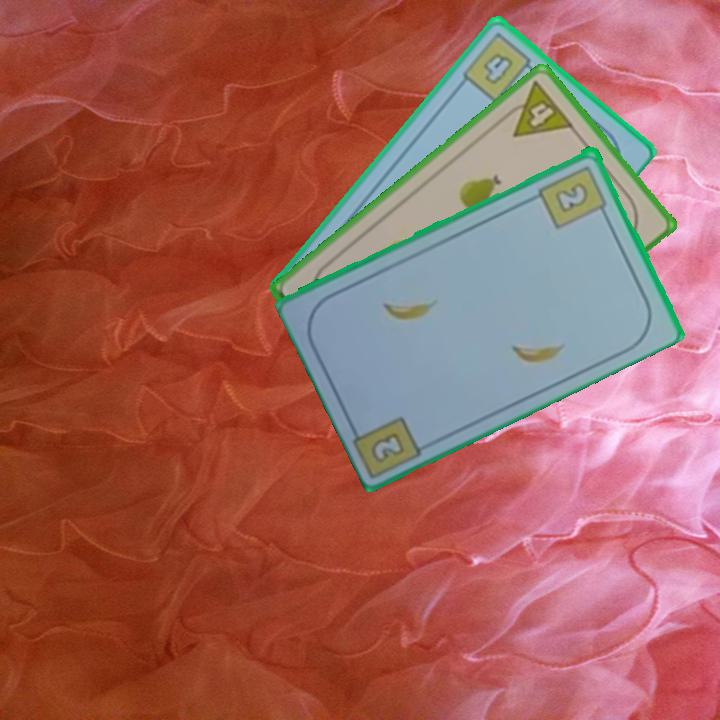2b: (535, 161, 611, 232), (367, 428, 408, 466)
4b: (458, 28, 541, 106)
4p: (496, 77, 577, 140)
